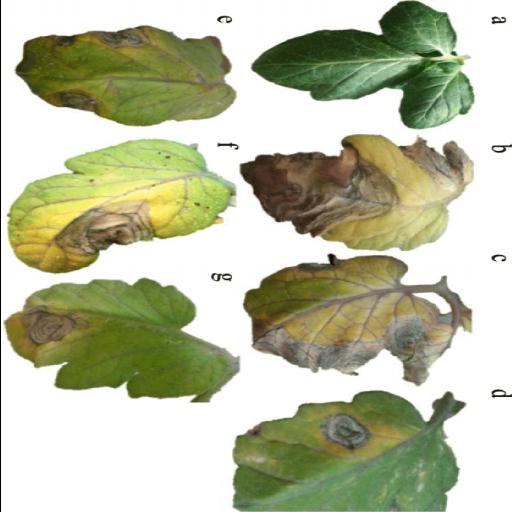disease_tomato: (4, 140, 236, 274), (6, 280, 240, 406), (234, 389, 464, 512), (239, 136, 474, 250), (17, 25, 239, 127)
